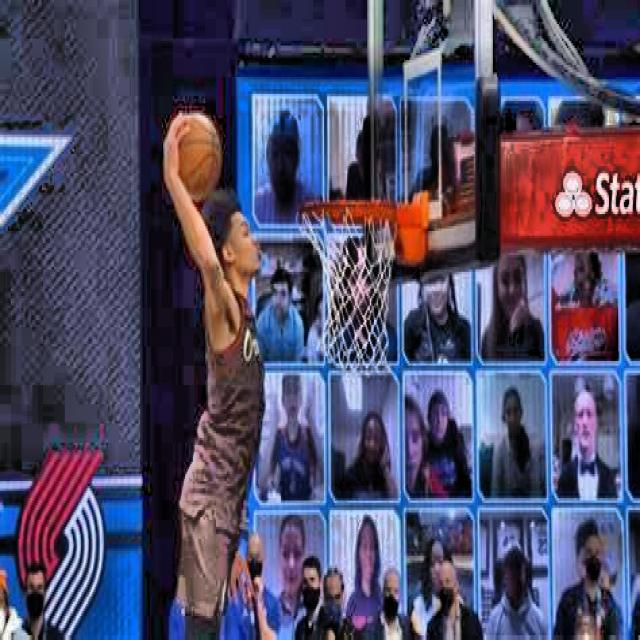rim: (296, 198, 400, 376)
